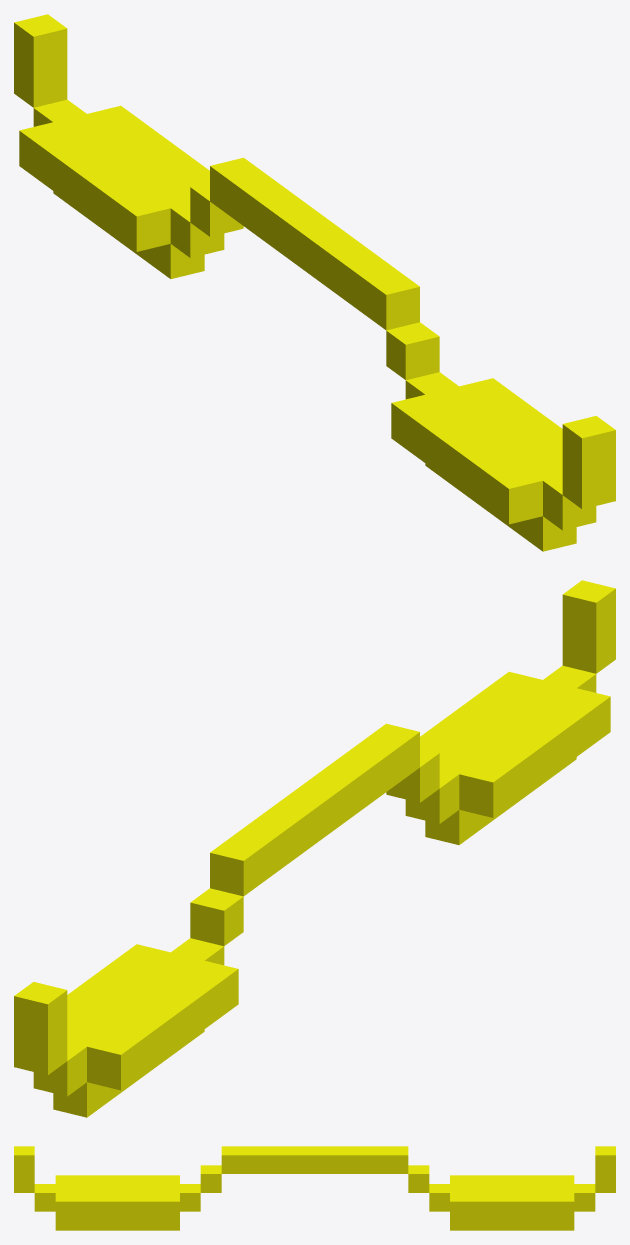
The model's file is voxel-rangers-bow.glb.
The picture shows the model from 3 angles, top to bottom: view 1: azimuth 30°, elevation 25°; view 2: azimuth 150°, elevation 25°; view 3: azimuth 270°, elevation 25°; orthographic projection. The views are drawn at different scales.
Parts seen in each view (by area): view 1: VS_Rangers_Props_Bow_001; view 2: VS_Rangers_Props_Bow_001; view 3: VS_Rangers_Props_Bow_001.
Boxes of the visible parts, bbox=[...] form: VS_Rangers_Props_Bow_001: bbox=[14, 14, 615, 551]; VS_Rangers_Props_Bow_001: bbox=[14, 580, 615, 1117]; VS_Rangers_Props_Bow_001: bbox=[14, 1146, 615, 1230].
Bounding box in the file's own units: 0.2999 × 0.4 × 2.9.
